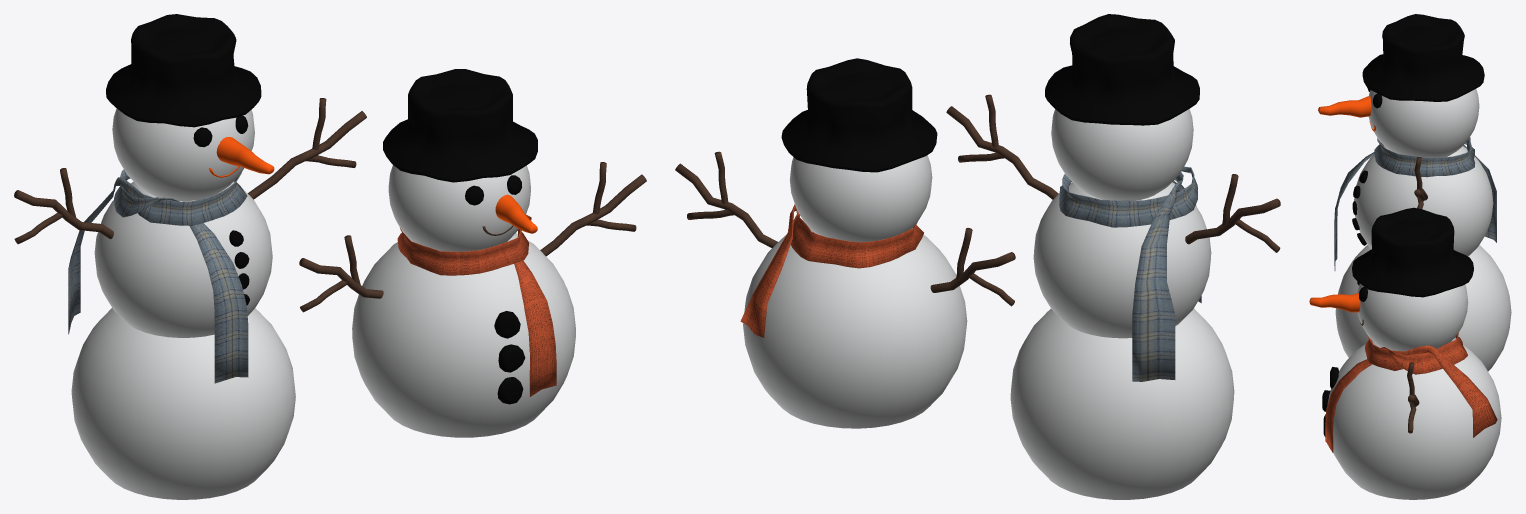
File: snowman_finish.dae
3 views of the same model, side by side, from view 1: azimuth 30°, elevation 25°; view 2: azimuth 150°, elevation 25°; view 3: azimuth 270°, elevation 25° (orthographic). The views are drawn at different scales.
Visible parts, largest first — view 1: snowman2, snowman1; view 2: snowman2, snowman1; view 3: snowman1, snowman2.
Part boxes in pixels (x1,y1,x2,y2): snowman2: (14, 14, 366, 499); snowman1: (299, 69, 646, 437); snowman2: (946, 14, 1280, 499); snowman1: (675, 58, 1015, 428); snowman1: (1309, 207, 1501, 499); snowman2: (1318, 14, 1511, 371).
Bounding box in the file's own units: 2.61 × 0.943 × 1.74.
